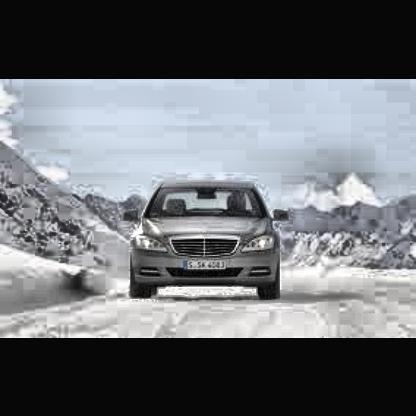Mercedes-Benz S-Class Sedan 2012: (127, 179, 292, 310)
